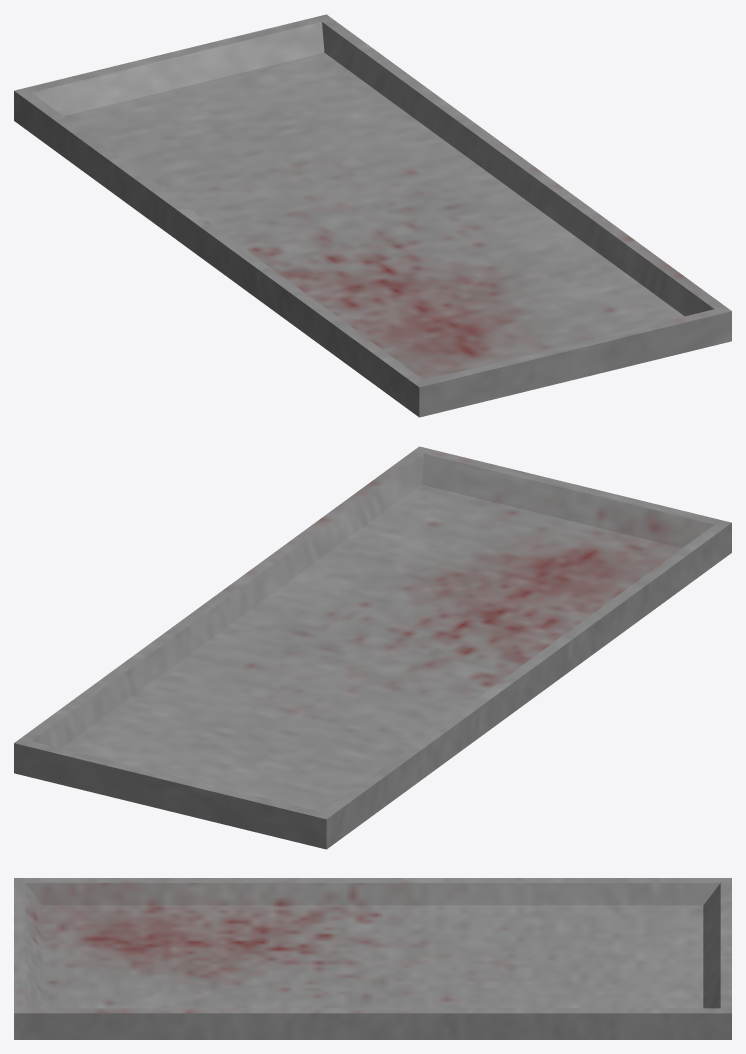
Rendered from Morgue Door.glb.
3 renders of one model, top to bottom at view 1: azimuth 30°, elevation 25°; view 2: azimuth 150°, elevation 25°; view 3: azimuth 270°, elevation 25°, orthographic. The views are drawn at different scales.
Visible parts, largest first — view 1: 1_morgueBed.001; view 2: 1_morgueBed.001; view 3: 1_morgueBed.001.
Part boxes in pixels (x1=…): 1_morgueBed.001: x1=14, y1=14, x2=731, y2=417; 1_morgueBed.001: x1=14, y1=446, x2=731, y2=849; 1_morgueBed.001: x1=14, y1=878, x2=731, y2=1039.
Bounding box in the file's own units: 5.66 × 0.5219 × 12.71.
Materials: 1 (1 with a texture image).
